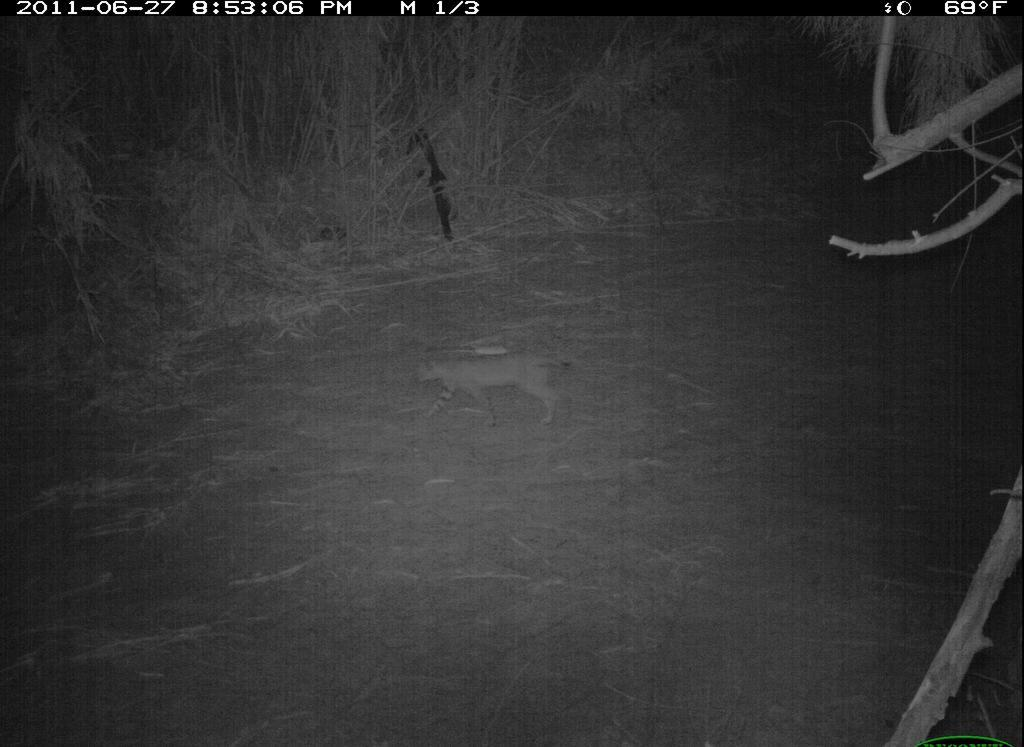bobcat: (405, 344, 582, 443)
